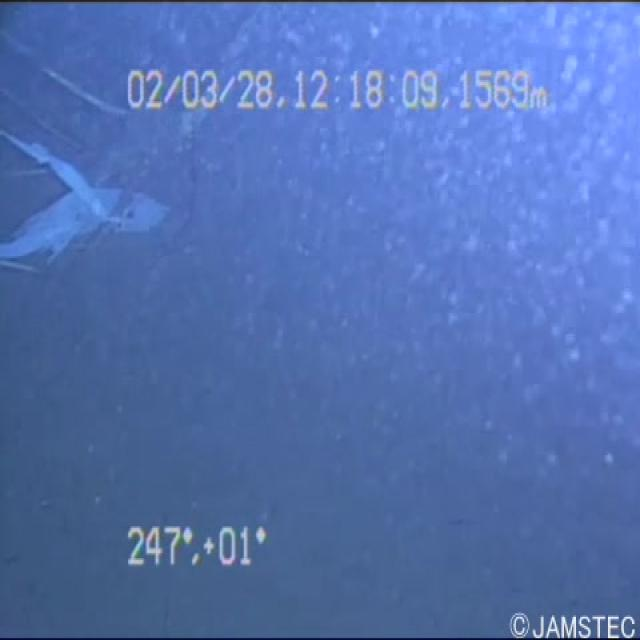plastic: (0, 62, 168, 316)
